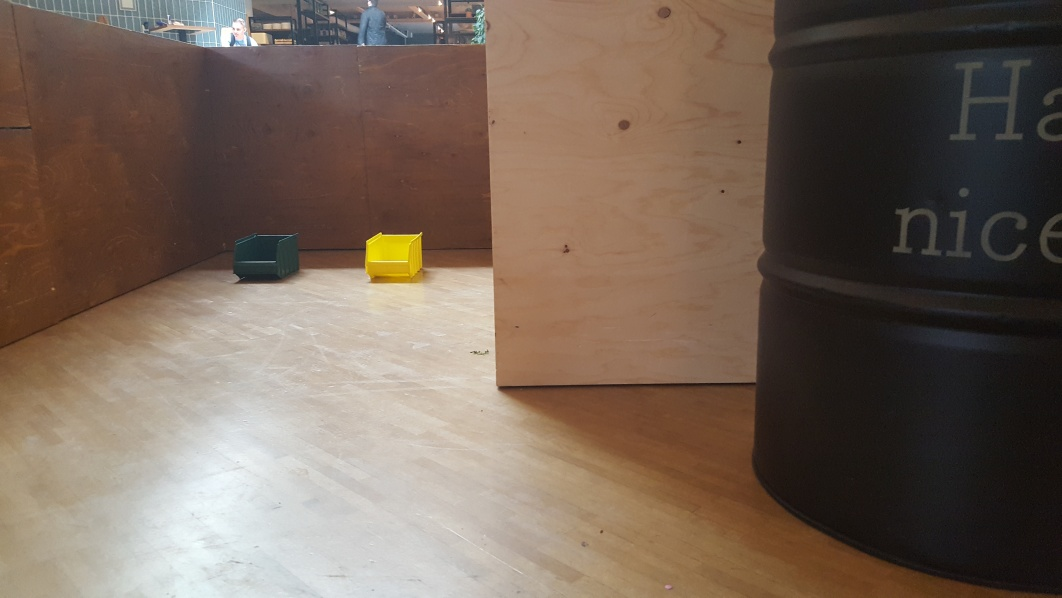tray: (230, 231, 306, 281), (362, 229, 428, 284)
